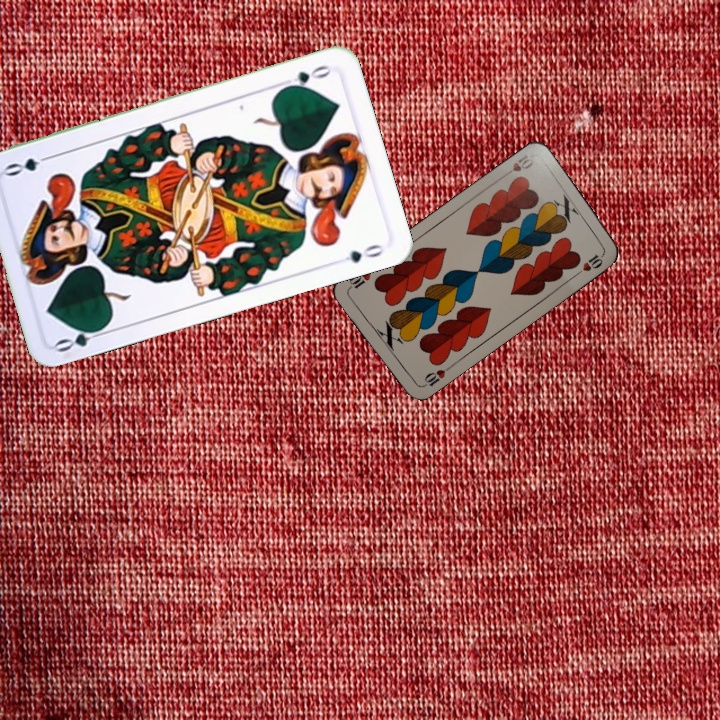GO: (52, 322, 110, 355), (278, 61, 335, 92)
H10: (499, 150, 536, 180), (417, 362, 453, 390)
